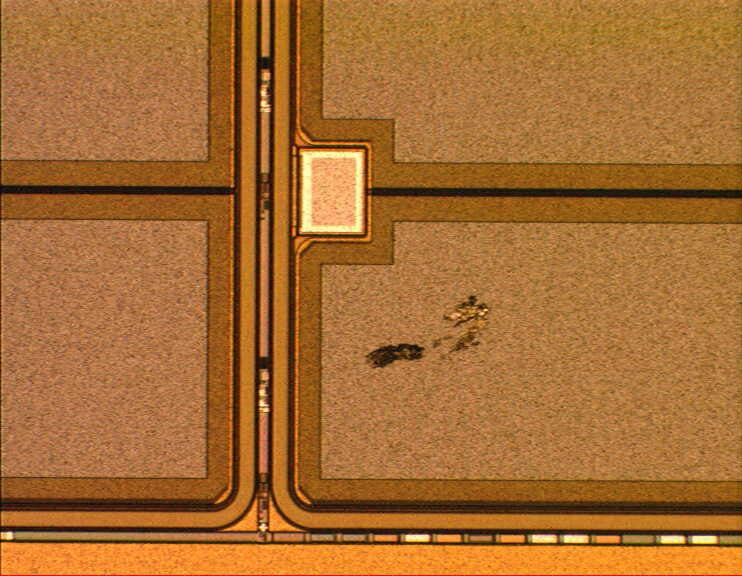SCRATCH: (358, 285, 502, 376)
